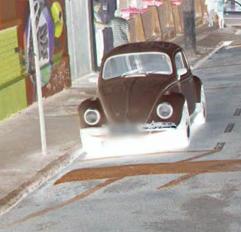car: (76, 38, 211, 153)
